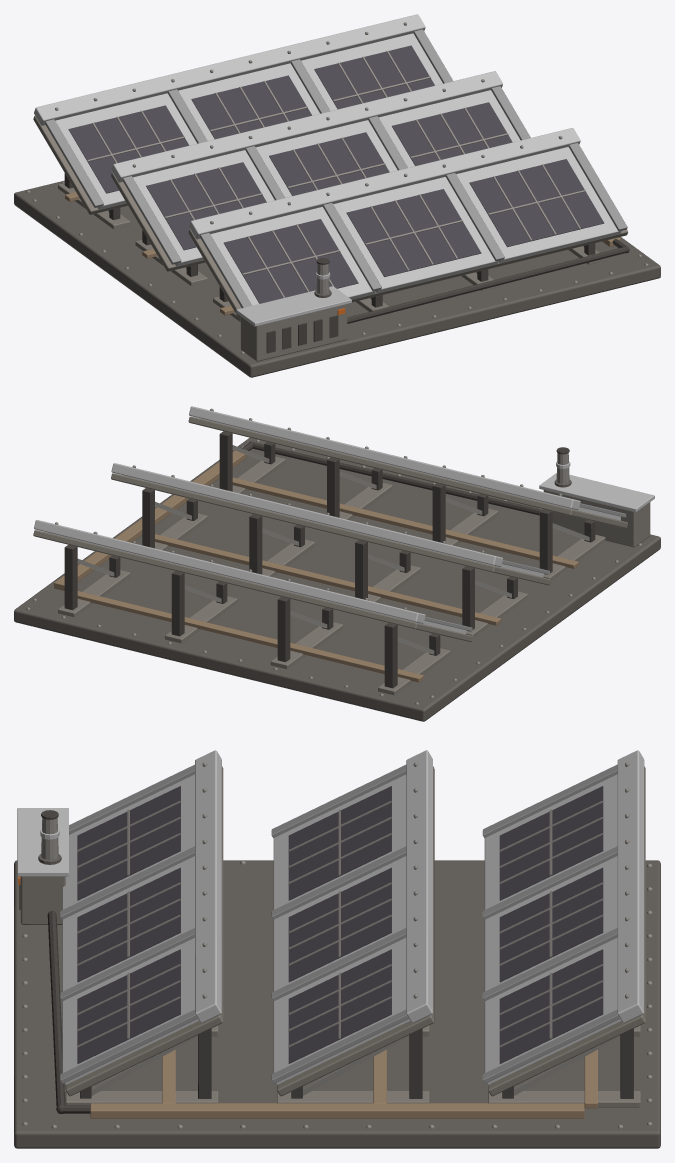
The model's file is crucible_solar_collector.glb.
3 views of the same model, one above another, from view 1: azimuth 30°, elevation 25°; view 2: azimuth 150°, elevation 25°; view 3: azimuth 270°, elevation 25° (orthographic). The views are drawn at different scales.
Parts seen in each view (by area): view 1: Body; view 2: Body; view 3: Body.
Part boxes in pixels (left/top/right/bottom): Body: left=14, top=14, right=660, bottom=377; Body: left=14, top=406, right=660, bottom=721; Body: left=14, top=750, right=660, bottom=1148.
Size of the model in its own units: 14.4 by 3.36 by 14.4.
